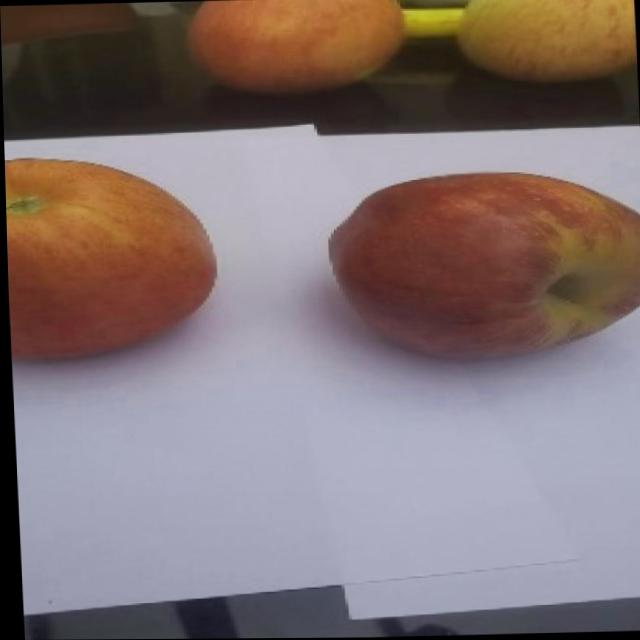Apple: (309, 166, 640, 368), (3, 145, 230, 366), (182, 0, 412, 92), (452, 0, 638, 83)
